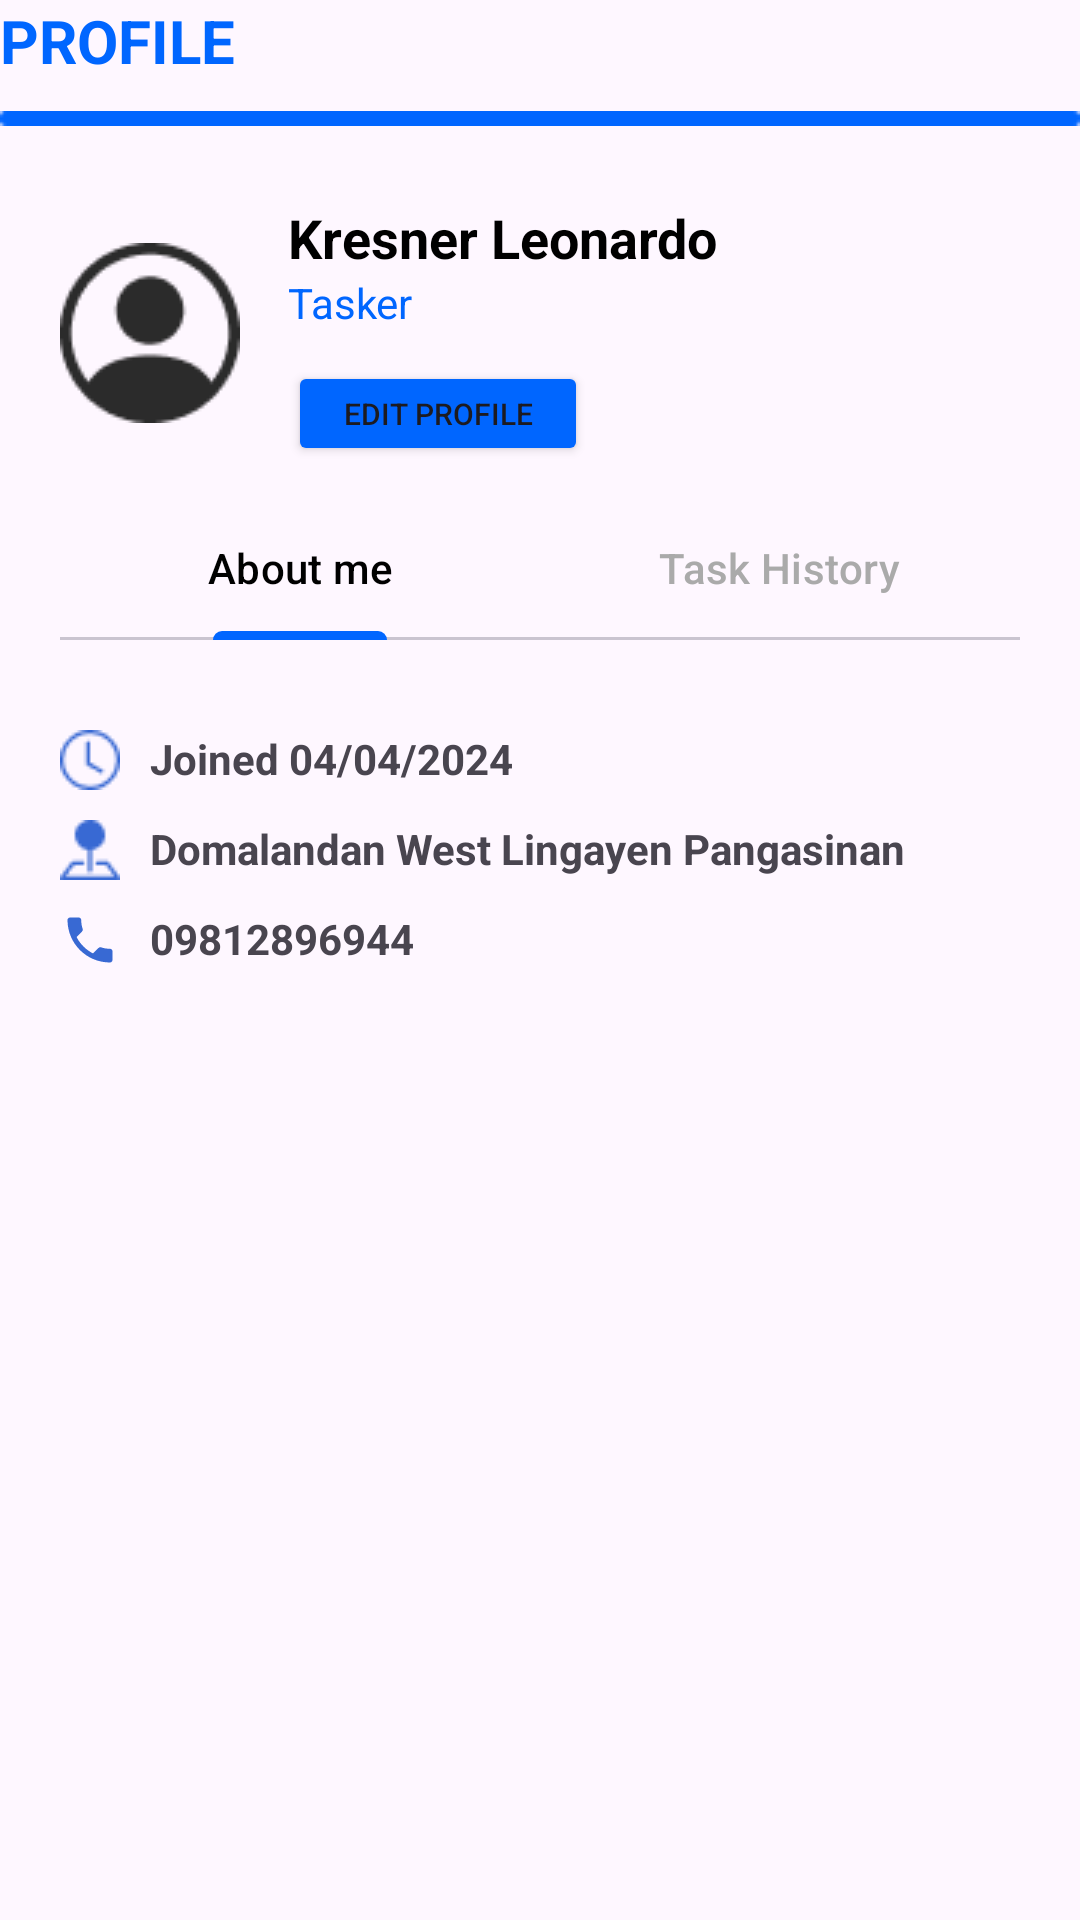

Icons on this 1080*1920 Android screen, each with its box as (x1, y1, x2, y2):
location: (60, 820, 120, 880)
user phone: (67, 917, 113, 963)
